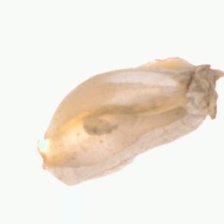L1: (37, 123, 84, 186), (192, 63, 219, 120)
L2: (38, 57, 219, 186)
